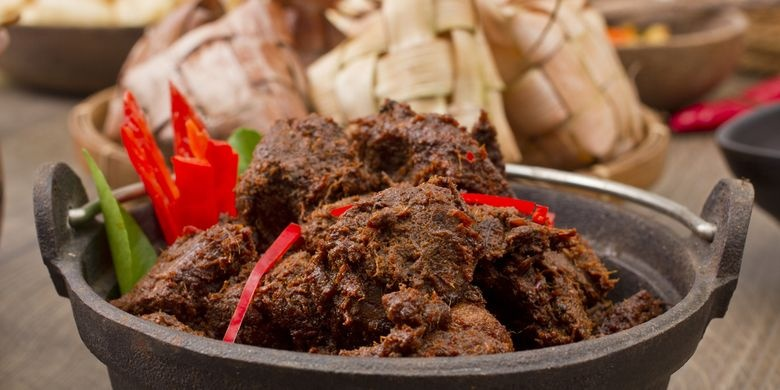rendang: (115, 204, 643, 344)
